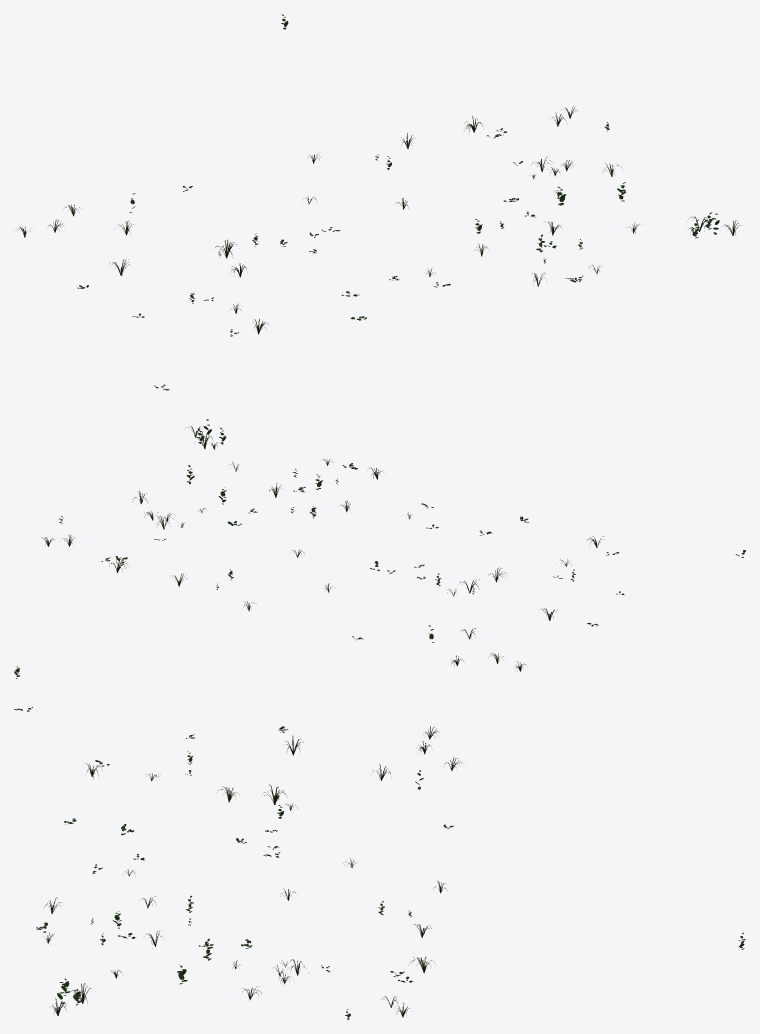
Rendered from weeds_+00+01_foliage.dae.
3 views of the same model, one above another, from view 1: azimuth 30°, elevation 25°; view 2: azimuth 150°, elevation 25°; view 3: azimuth 270°, elevation 25° (orthographic). The views are drawn at different scales.
Parts seen in each view (by area): view 1: weeds_+00+01_foliage; view 2: weeds_+00+01_foliage; view 3: weeds_+00+01_foliage.
Boxes of the visible parts, x1,y1,x2,y2 form: weeds_+00+01_foliage: [17, 14, 742, 390]; weeds_+00+01_foliage: [14, 419, 745, 678]; weeds_+00+01_foliage: [14, 707, 745, 1019].
Size of the model in its own units: 10.03 by 9.92 by 0.4169.
